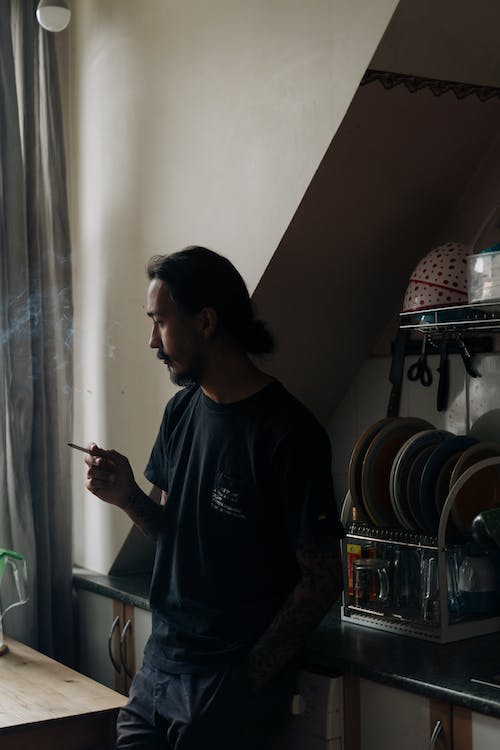cigarette: (64, 438, 96, 456)
